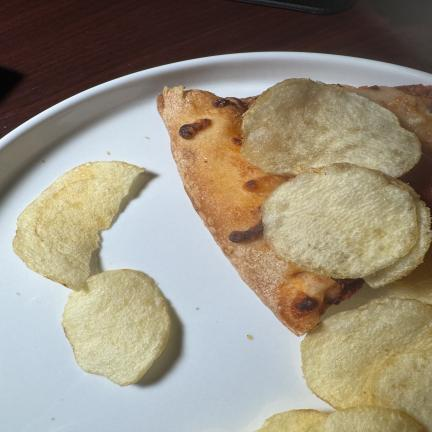chips: (261, 164, 418, 278), (242, 79, 421, 177), (301, 298, 431, 429), (13, 162, 144, 290), (62, 270, 169, 385), (364, 180, 431, 287), (256, 407, 426, 431), (307, 407, 426, 431), (387, 249, 432, 305), (256, 410, 328, 431)
pizza: (156, 81, 432, 335)
plate: (0, 53, 431, 431)
